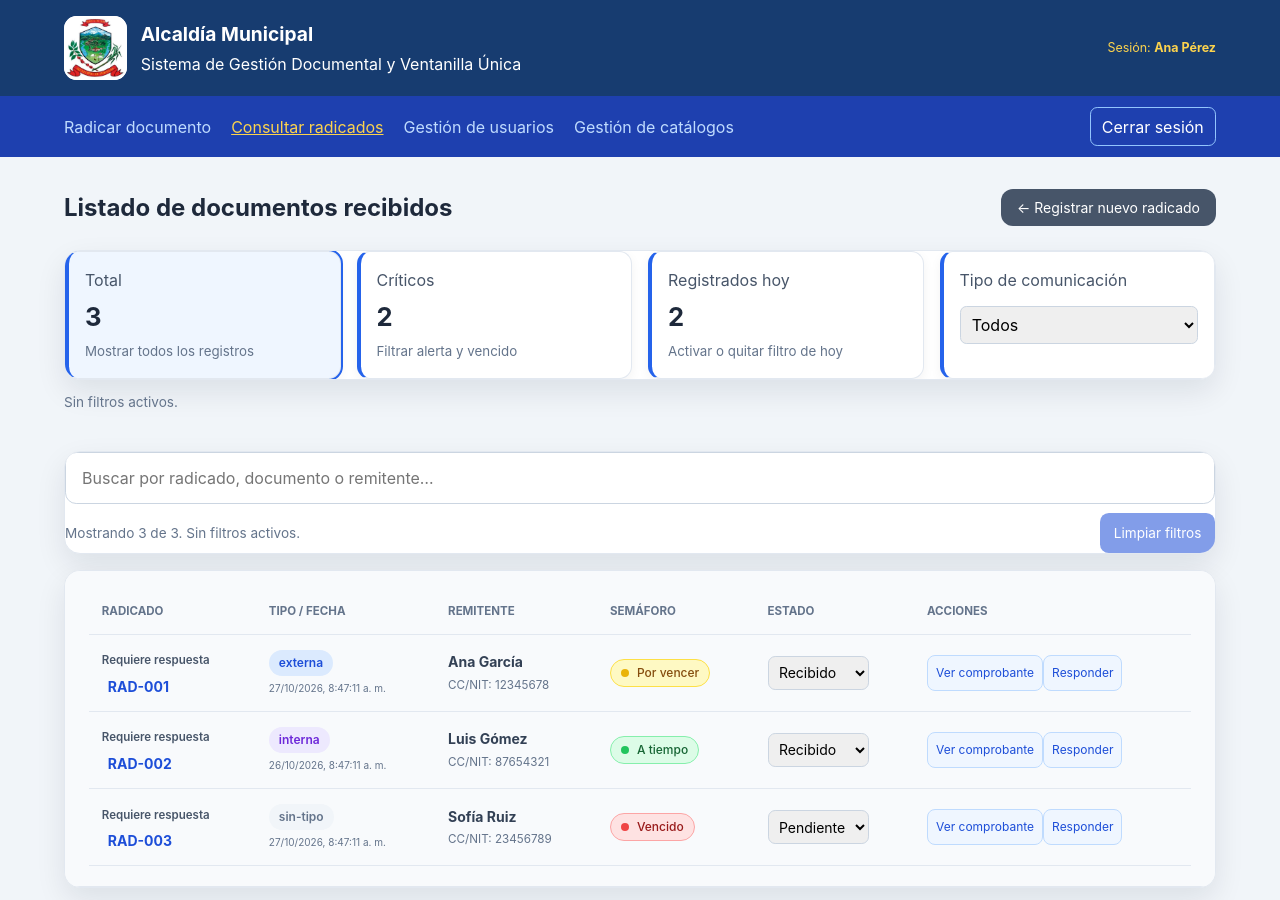
it: consulta de radicados React › separa los eventos iniciales y describe cambios sin imprimir valores JSON
Expected: the button "RAD-002" is shown, [102,752,178,775]
Expected: the button "RAD-003" is shown, [102,830,178,852]
Step 1. Click the button "RAD-001" → (138, 686), box [102,675,175,698]
(page scrolled)
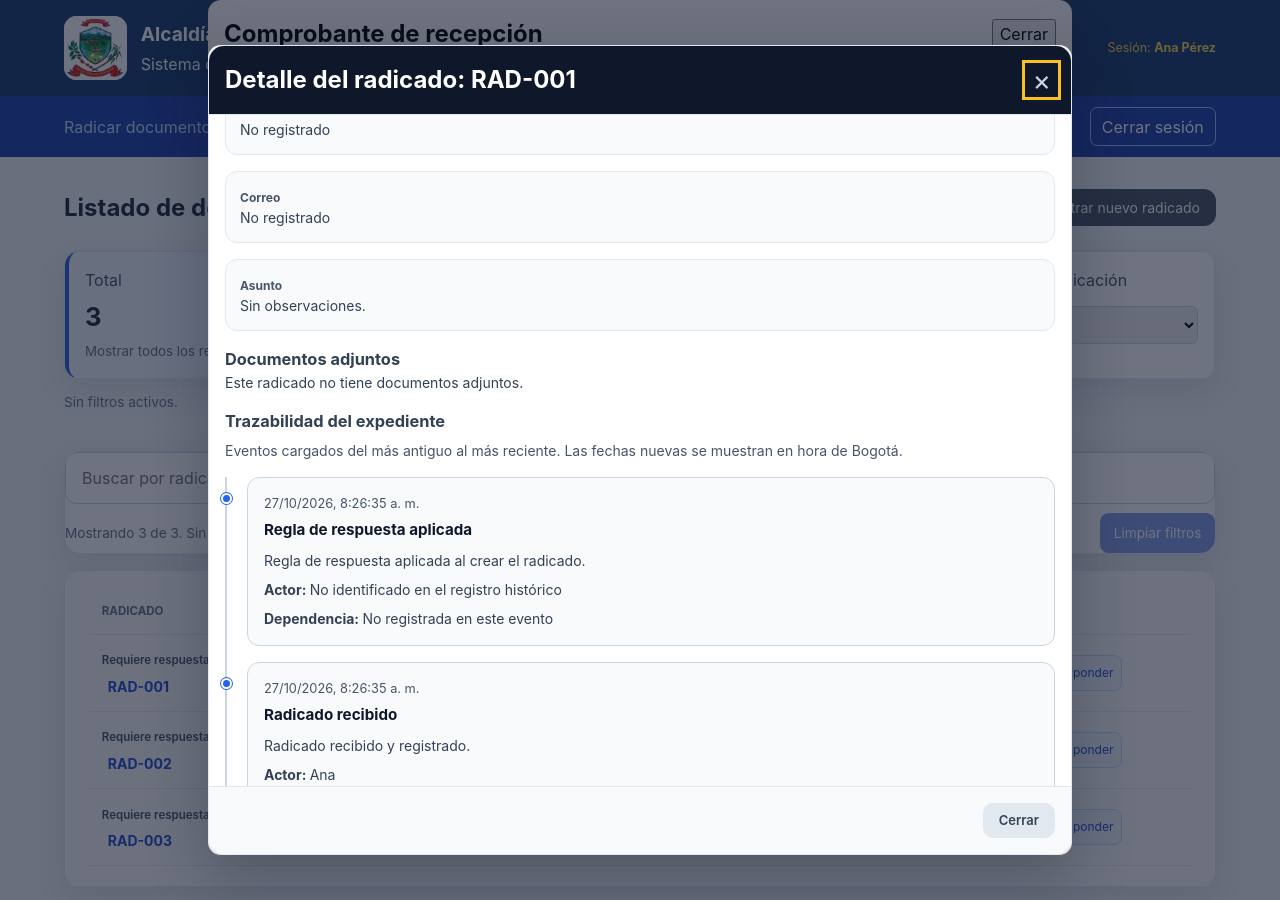
Now the text "Las fechas nuevas se muestran en hora de Bogotá" is shown, box [225,442,903,458]
